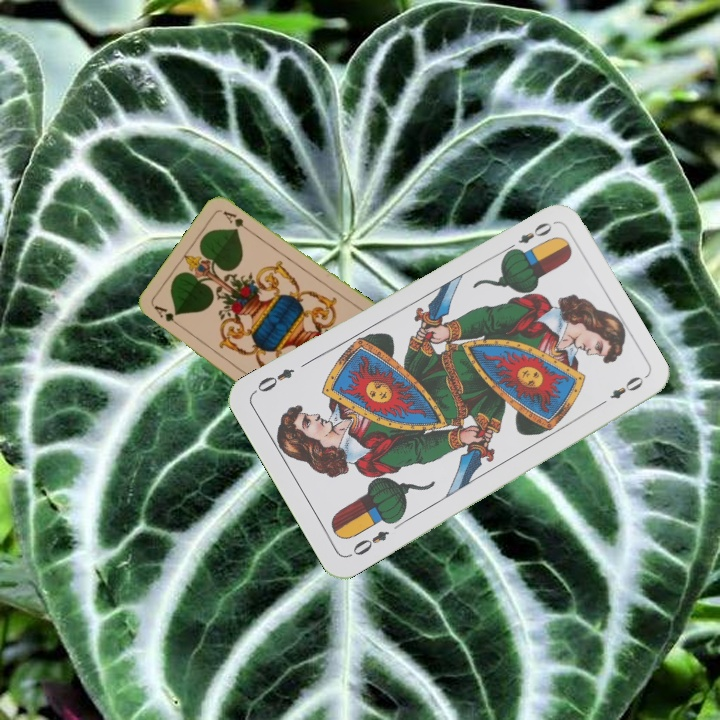EO: (501, 218, 555, 255), (348, 526, 392, 558)
GA: (150, 301, 185, 331)
